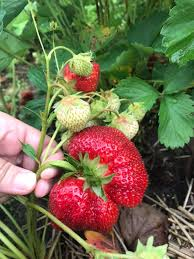ripe: (65, 124, 149, 212), (45, 175, 119, 242), (61, 60, 101, 94)
unripe: (52, 96, 90, 133), (111, 115, 139, 143), (94, 95, 120, 117), (68, 53, 91, 77), (126, 101, 145, 122)
